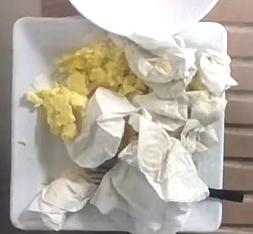scrambled_eggs: (25, 40, 147, 138)
